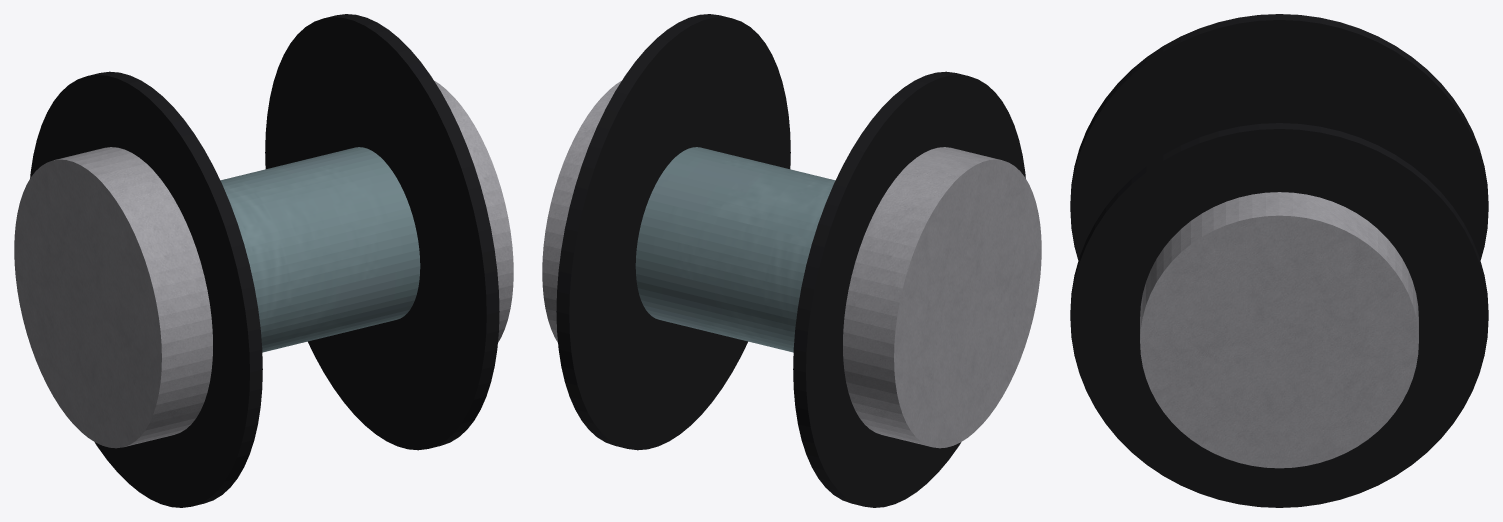
Rendered from coupling_ok.glb.
3 renders of one model, left to right at view 1: azimuth 30°, elevation 25°; view 2: azimuth 150°, elevation 25°; view 3: azimuth 270°, elevation 25°, orthographic. The views are drawn at different scales.
Visible parts, largest first — view 1: coupling_ok; view 2: coupling_ok; view 3: coupling_ok.
Boxes of the visible parts, x1,y1,x2,y2 form: coupling_ok: (14,14,513,507); coupling_ok: (542,14,1041,507); coupling_ok: (1070,14,1488,507).
Size of the model in its own units: 0.55 by 0.6 by 0.6.
3 materials, 2 textured.
